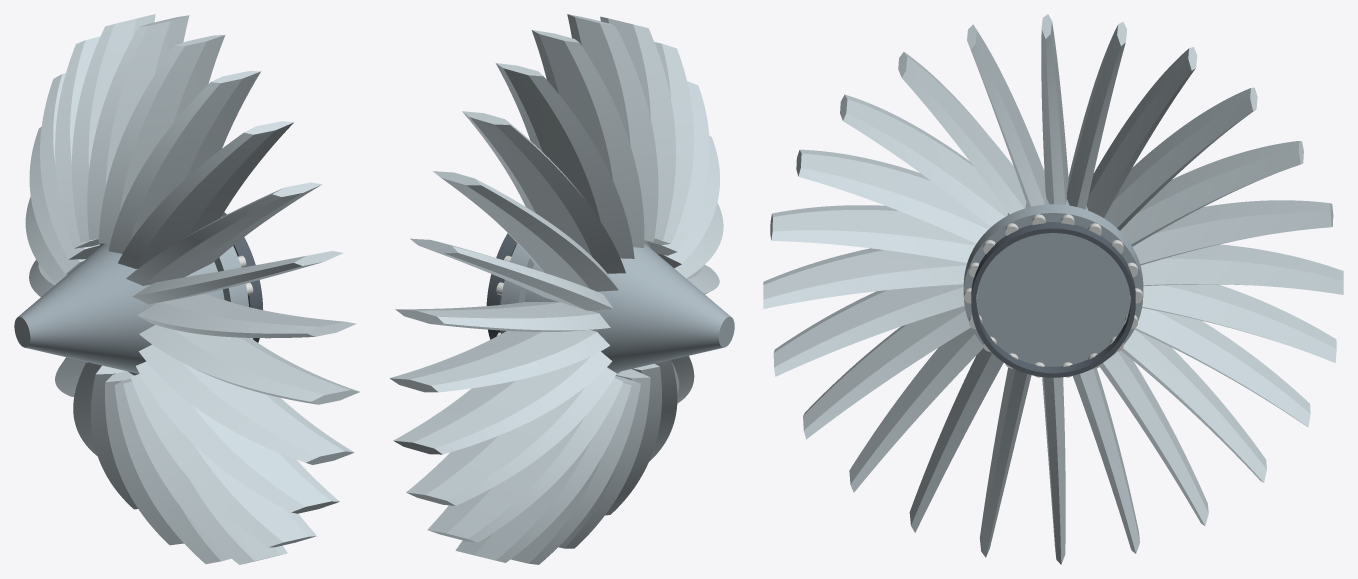
The model's file is fan-blisk.glb.
The picture shows the model from 3 angles, left to right: view 1: azimuth 30°, elevation 25°; view 2: azimuth 150°, elevation 25°; view 3: azimuth 270°, elevation 25°; orthographic projection. The views are drawn at different scales.
Parts seen in each view (by area): view 1: fan-blisk - blade, fan-blisk - steel, fan-blisk - seal; view 2: fan-blisk - blade, fan-blisk - steel, fan-blisk - seal; view 3: fan-blisk - blade, fan-blisk - steel, fan-blisk - seal, fan-blisk - fastener.
Part boxes in pixels (x1,y1,x2,y2): fan-blisk - blade: [25, 14, 359, 564]; fan-blisk - steel: [14, 243, 248, 375]; fan-blisk - seal: [221, 212, 262, 342]; fan-blisk - blade: [389, 14, 723, 564]; fan-blisk - steel: [500, 240, 734, 374]; fan-blisk - seal: [486, 233, 516, 339]; fan-blisk - blade: [763, 14, 1343, 564]; fan-blisk - steel: [963, 198, 1143, 366]; fan-blisk - seal: [971, 222, 1135, 377]; fan-blisk - fastener: [964, 214, 1142, 377].
Bounding box in the file's own units: 0.88 × 2.1 × 2.1.
